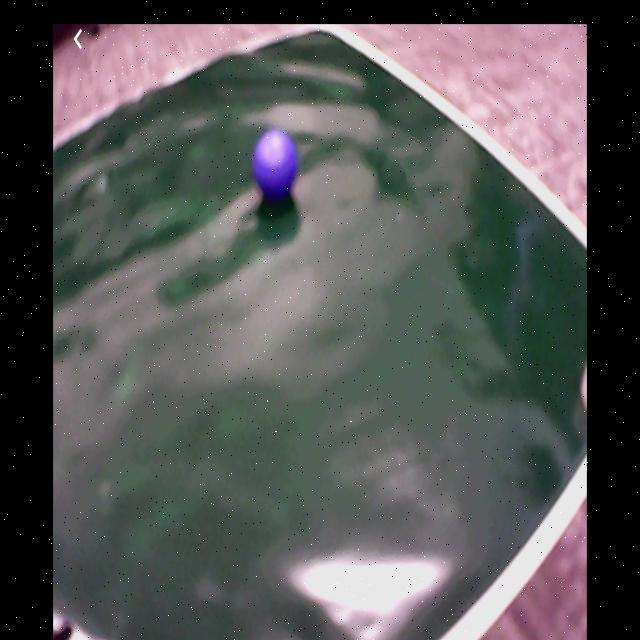ball: (255, 126, 298, 195)
